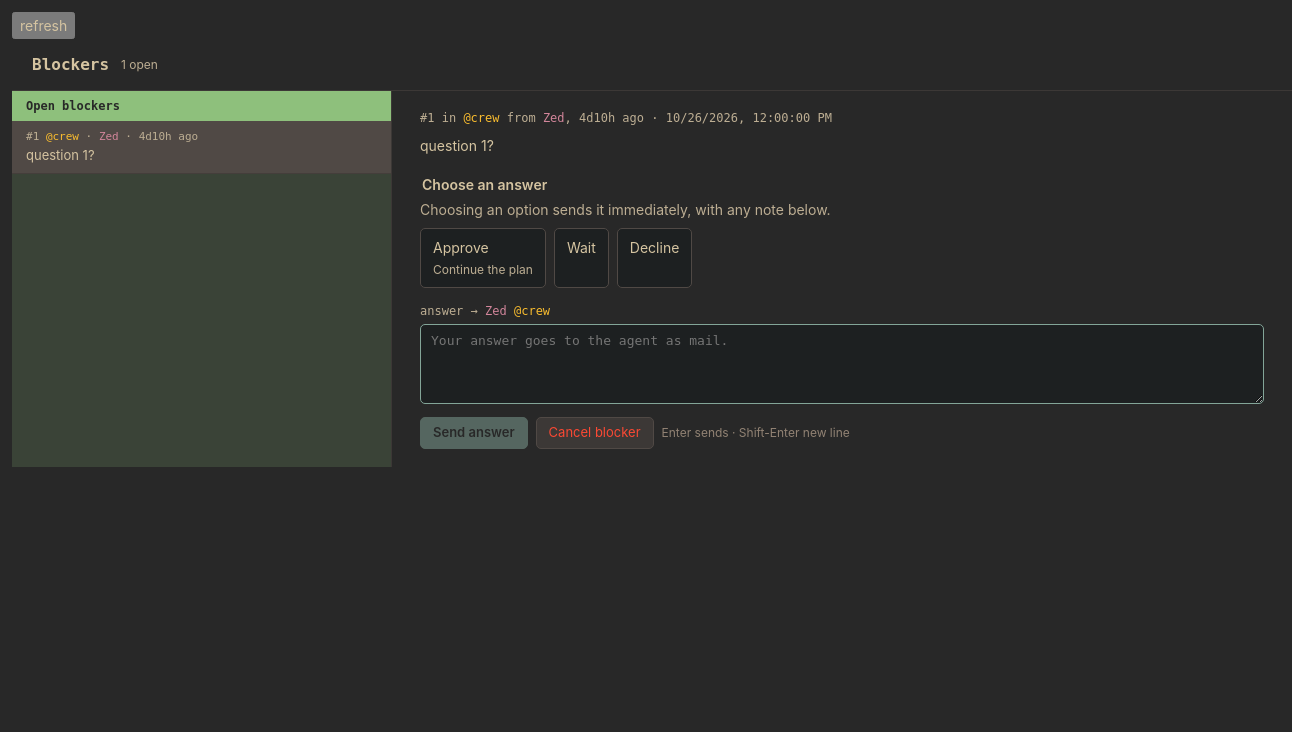
it: structured blocker answers › refuses a selected write when fresh server info lacks the capability despite cached support
This screenshot has width=1292, height=732.
What coordinates should you click on to do the following:
click the button "Approve Continue the plan"
I would click on:
 (483, 258)
Its box is [420,228,546,288].
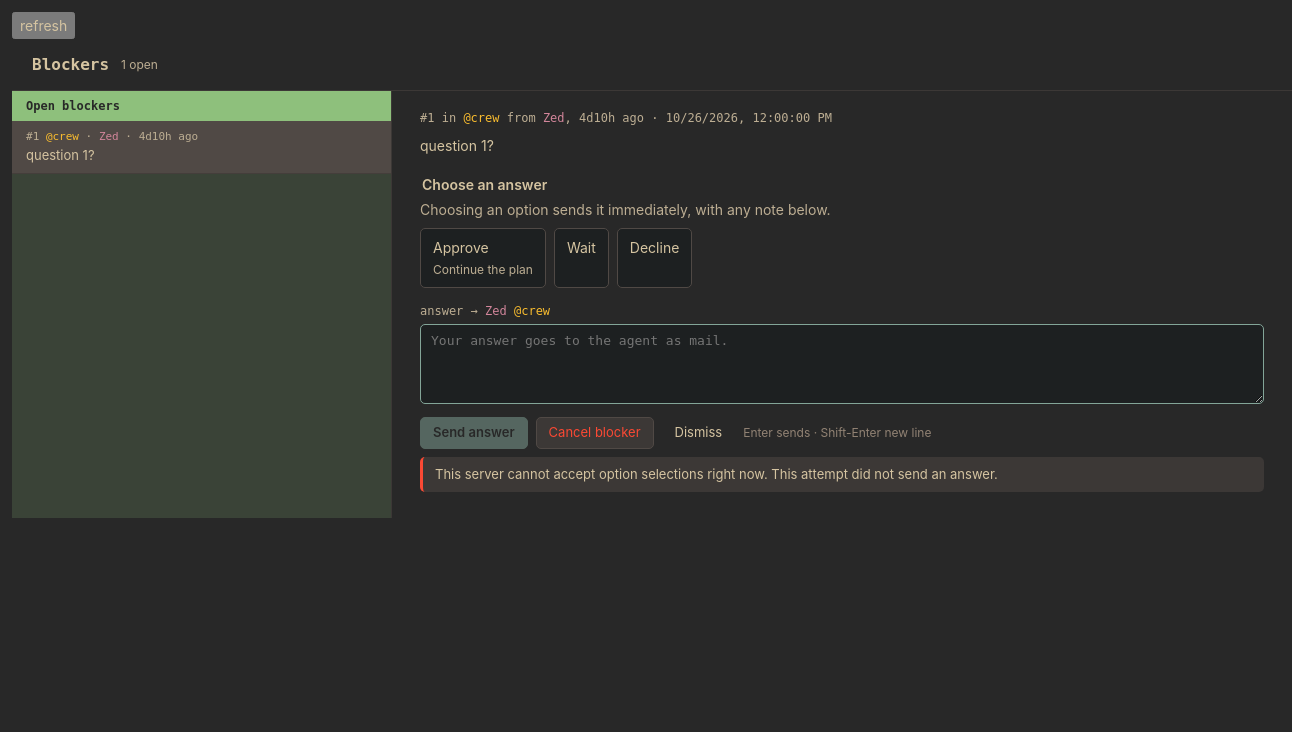
Now the text "cannot accept option selections" is shown, box [435,466,998,482]
